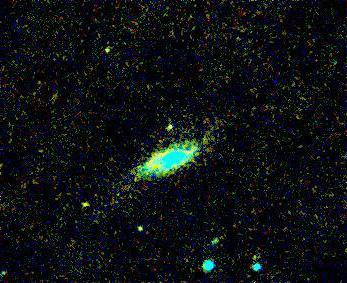star: (92, 34, 122, 64)
